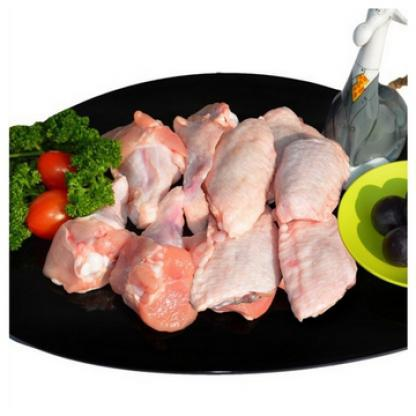chicken: (43, 169, 132, 294), (131, 179, 190, 344), (102, 103, 180, 223), (209, 110, 275, 233), (276, 214, 356, 314), (206, 206, 276, 316), (278, 132, 340, 228)
